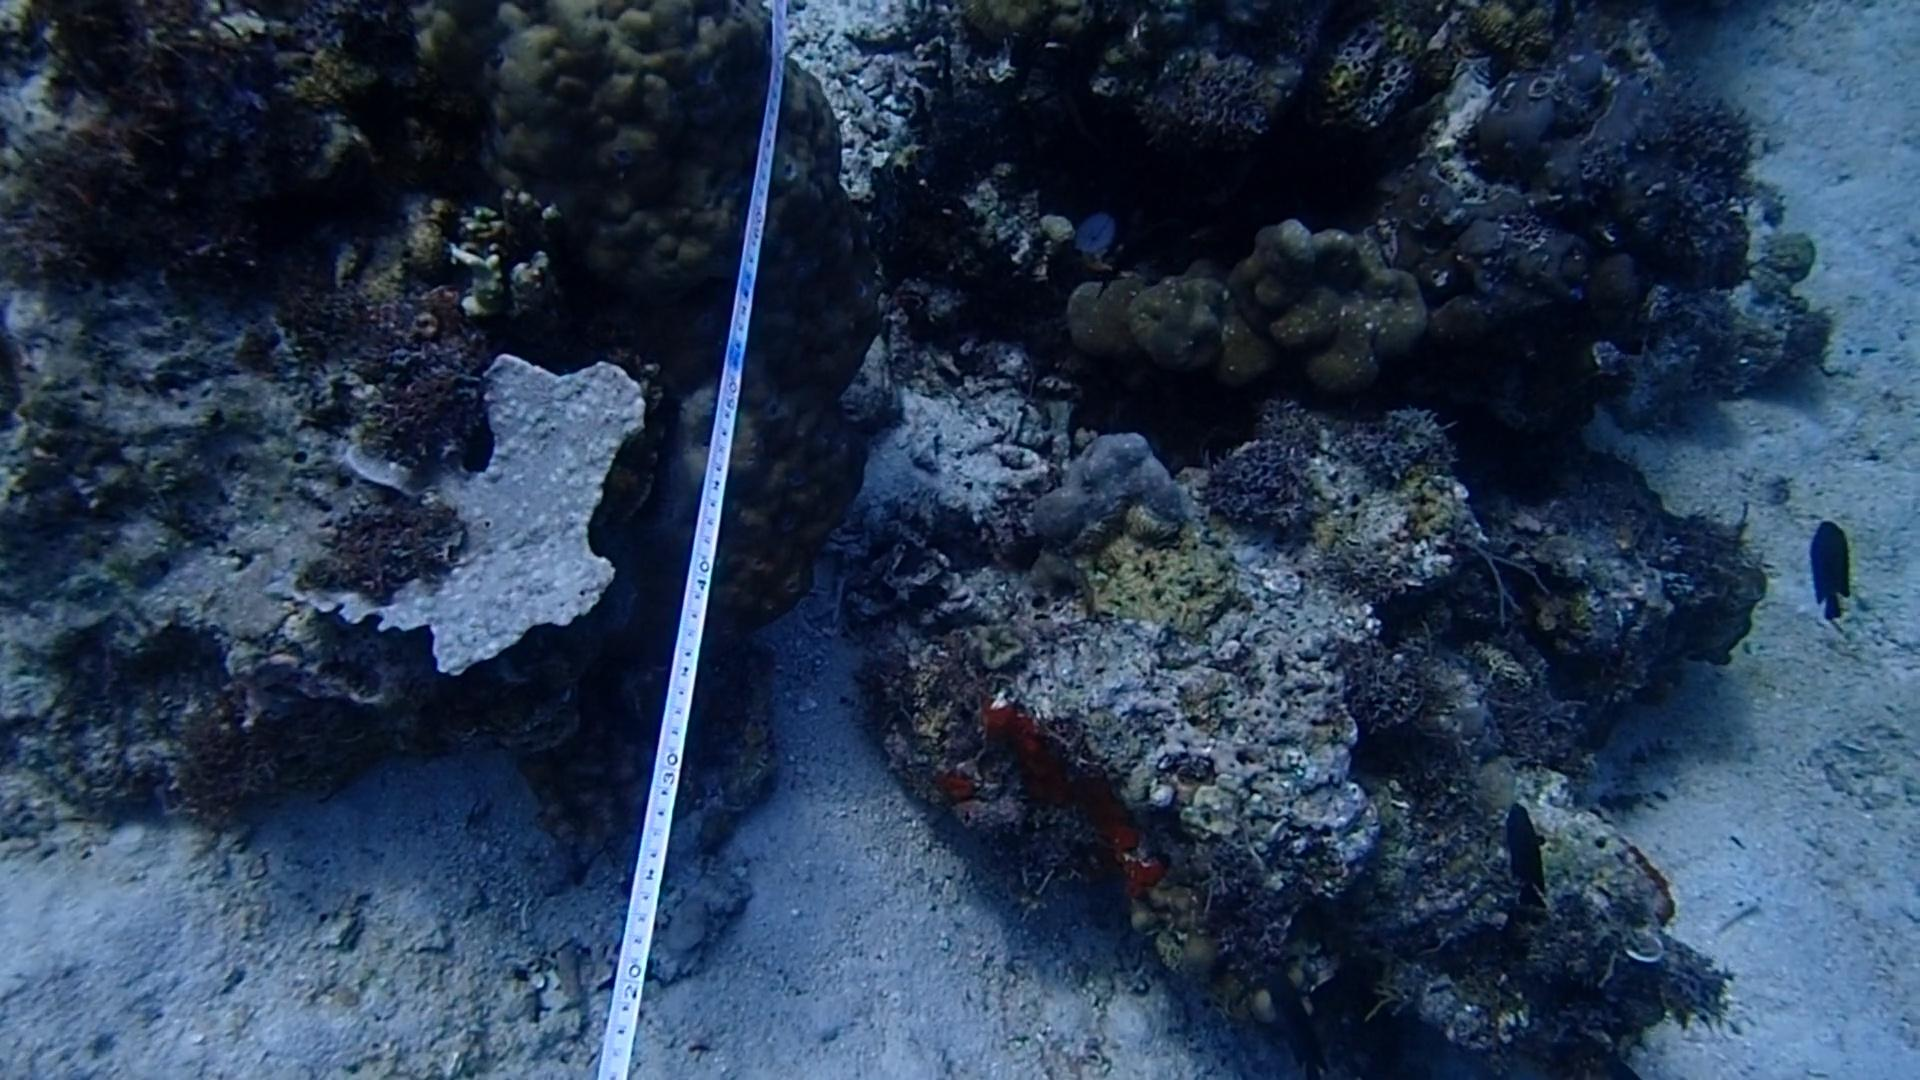Dark Fish: (1485, 786, 1569, 916), (1788, 506, 1863, 638)
